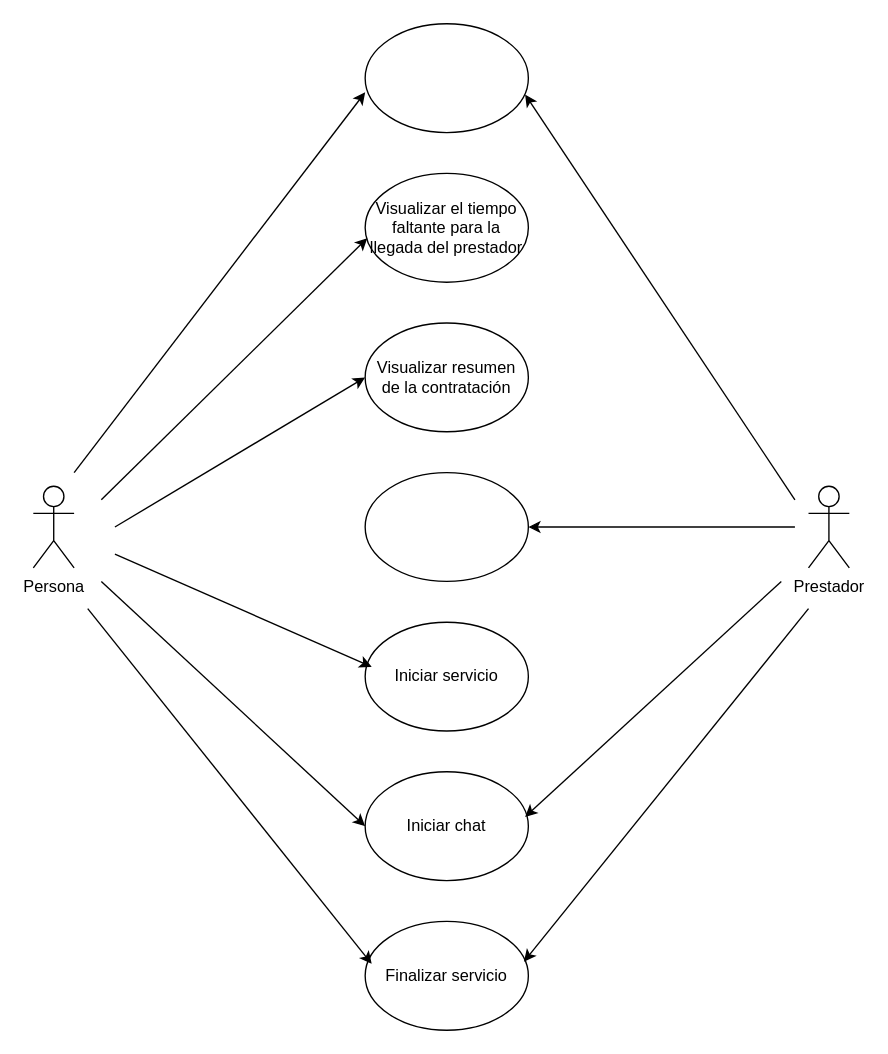
This 888x1054 diagram has some shape labels left out. The centre of each missing label's shape, as x and y in pixels:
"Anunciar llegada" goes at point (446, 526).
"Visualizar la posición en mapa" goes at point (446, 77).
